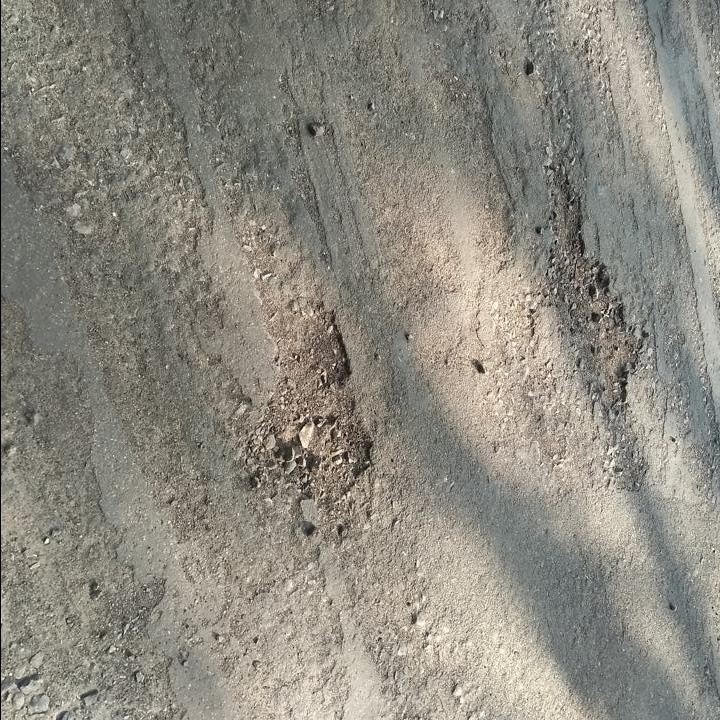pothole: (233, 303, 381, 505), (532, 164, 647, 420)
